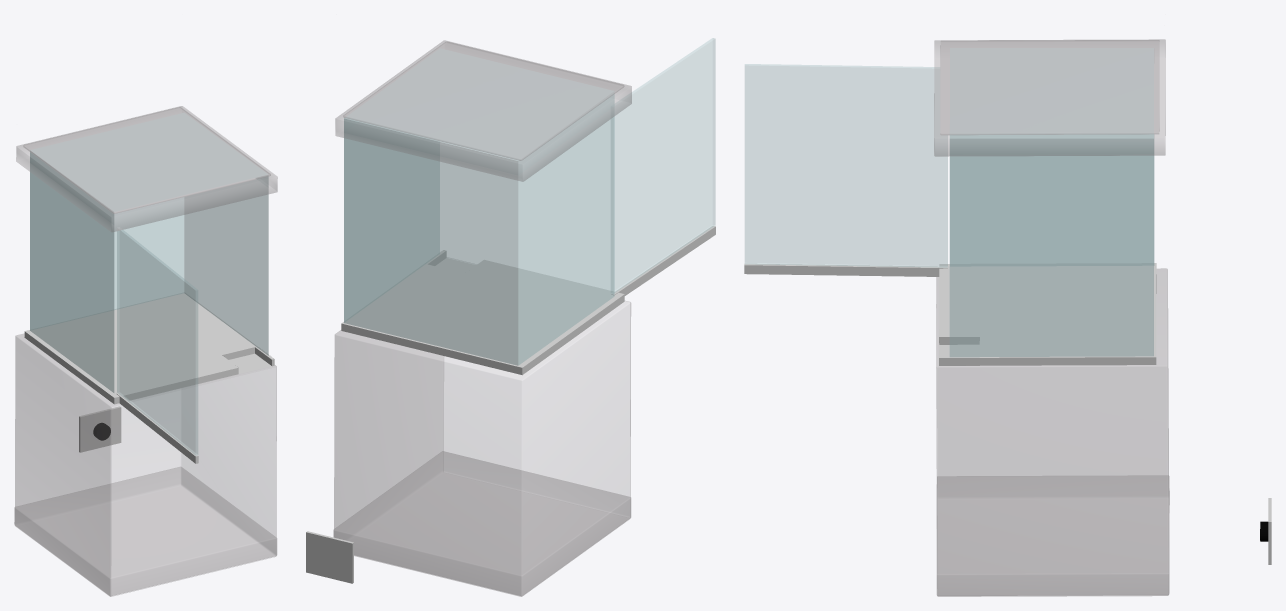
Rendered from SHOWCASE-Only.glb.
The picture shows the model from 3 angles, left to right: view 1: azimuth 30°, elevation 25°; view 2: azimuth 150°, elevation 25°; view 3: azimuth 270°, elevation 25°; orthographic projection. The views are drawn at different scales.
Parts seen in each view (by area): view 1: 7191_pillars_element_375, glass, 7191_pillar1, Cube.001, Cube, Cube.003, Cube.002; view 2: glass, 7191_pillars_element_375, 7191_pillar1, Cube, Cube.001, Cube.003, Cube.002; view 3: glass, 7191_pillars_element_375, Cube, 7191_pillar1, Cube.001, Cube.002.
Part boxes in pixels (bbox=[...]): 7191_pillars_element_375: bbox=[14, 333, 276, 596]; glass: bbox=[30, 113, 268, 392]; 7191_pillar1: bbox=[16, 106, 277, 231]; Cube.001: bbox=[24, 292, 274, 404]; Cube: bbox=[117, 227, 197, 455]; Cube.003: bbox=[79, 406, 121, 452]; Cube.002: bbox=[116, 393, 198, 463]; glass: bbox=[344, 49, 614, 365]; 7191_pillars_element_375: bbox=[333, 257, 630, 596]; 7191_pillar1: bbox=[335, 40, 631, 181]; Cube: bbox=[611, 38, 715, 293]; Cube.001: bbox=[341, 250, 624, 375]; Cube.003: bbox=[306, 531, 353, 583]; Cube.002: bbox=[611, 225, 715, 295]; glass: bbox=[949, 48, 1154, 357]; 7191_pillars_element_375: bbox=[936, 268, 1169, 596]; Cube: bbox=[745, 64, 947, 267]; 7191_pillar1: bbox=[934, 39, 1165, 156]; Cube.001: bbox=[939, 263, 1156, 365]; Cube.002: bbox=[744, 263, 947, 276].
Size of what is drawn, in the model's own units: 1.27 by 3.43 by 2.87.
